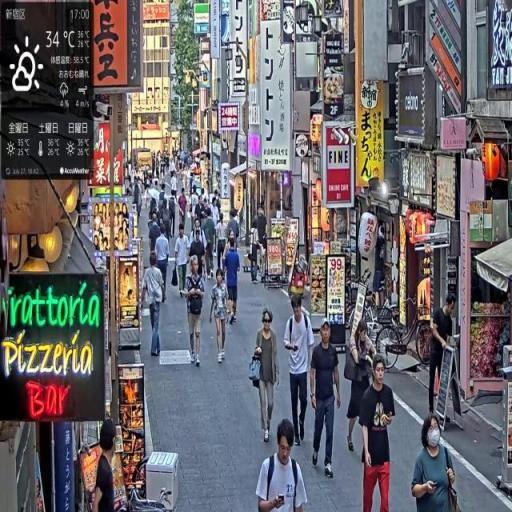person: (360, 355, 397, 512), (311, 321, 343, 484), (284, 293, 317, 450), (256, 417, 308, 512), (344, 316, 379, 456), (411, 412, 460, 512), (251, 307, 281, 450), (428, 296, 458, 426), (184, 256, 207, 367), (146, 254, 167, 359), (210, 269, 233, 364), (223, 236, 242, 327), (175, 222, 192, 302), (156, 224, 172, 302), (203, 211, 217, 282)
